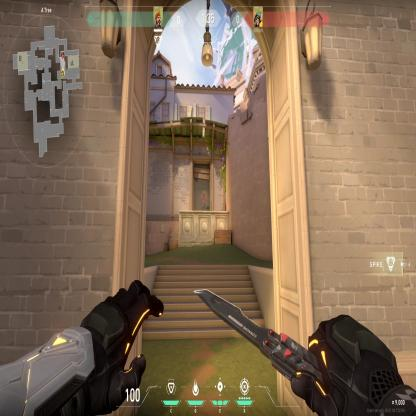enemy: (200, 190, 207, 212)
